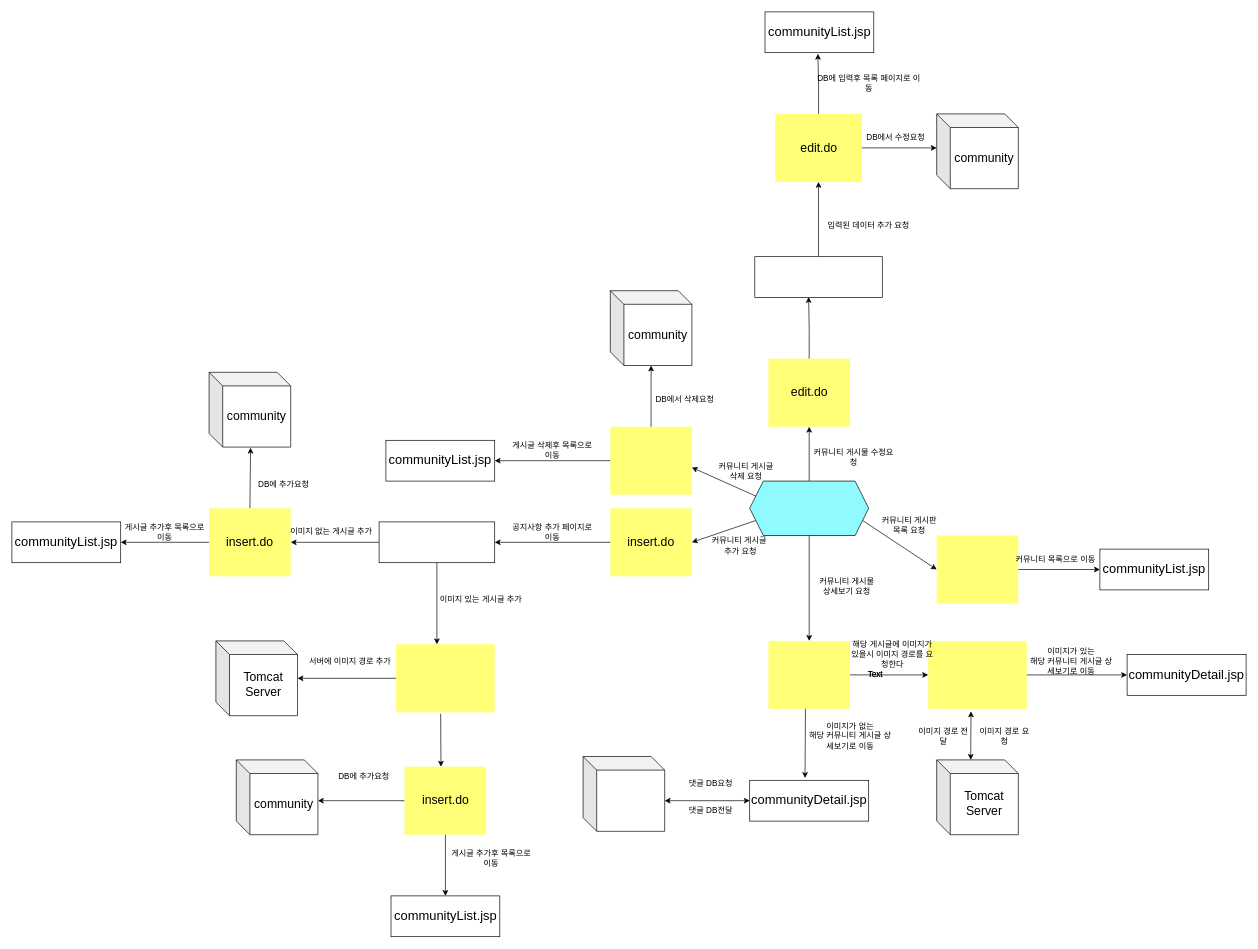
This 1258x949 diagram has some shape labels left out. Each missing label, with the box of its shape:
ckImgSubmit.do: (928, 641, 1026, 709)
comment: (582, 756, 665, 831)
Community Controller .java: (749, 480, 869, 536)
communityInsert.jsp: (378, 521, 495, 563)
communityUpdate.do: (754, 256, 882, 298)
delete.do: (610, 426, 692, 494)
getCommunity .do: (768, 641, 850, 709)
imageUpload.do: (396, 644, 494, 712)
List.do: (936, 535, 1018, 603)
